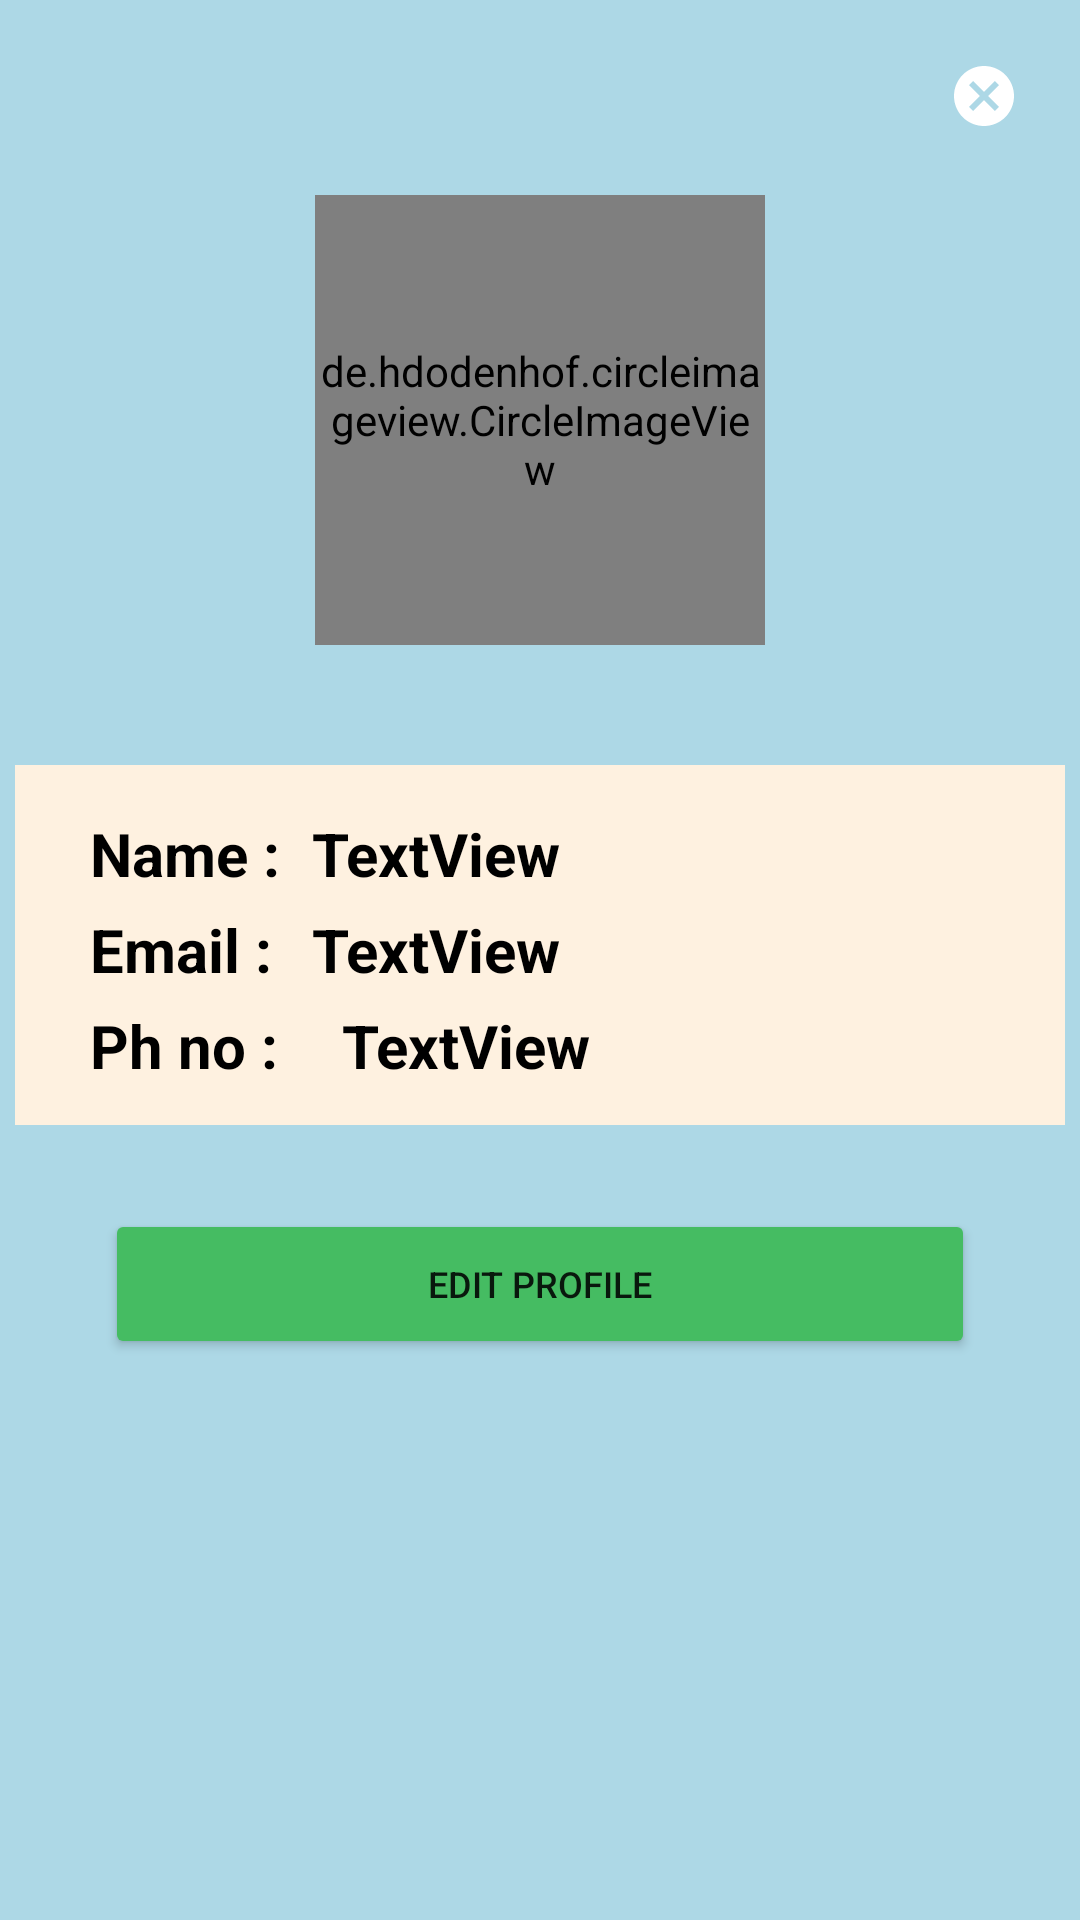

Screen size 1080px x 1920px. Icon name, then its center in pixels as (x=x, y=y):
cancel: (x=984, y=96)
